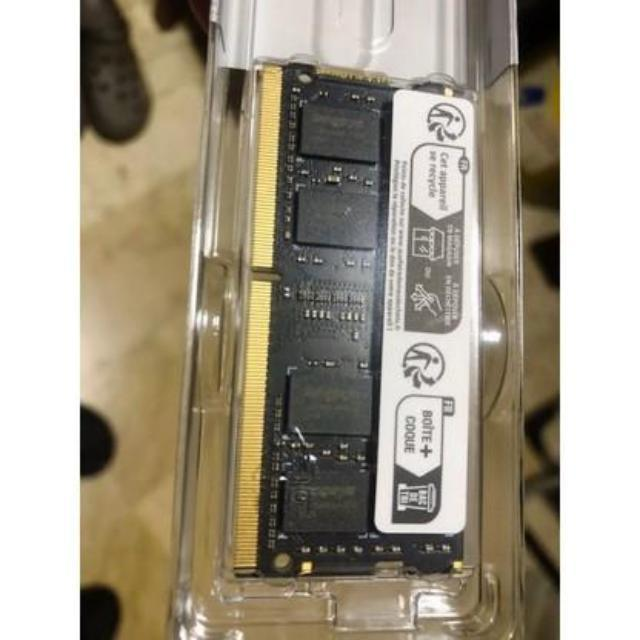RAM: (230, 54, 478, 588)
